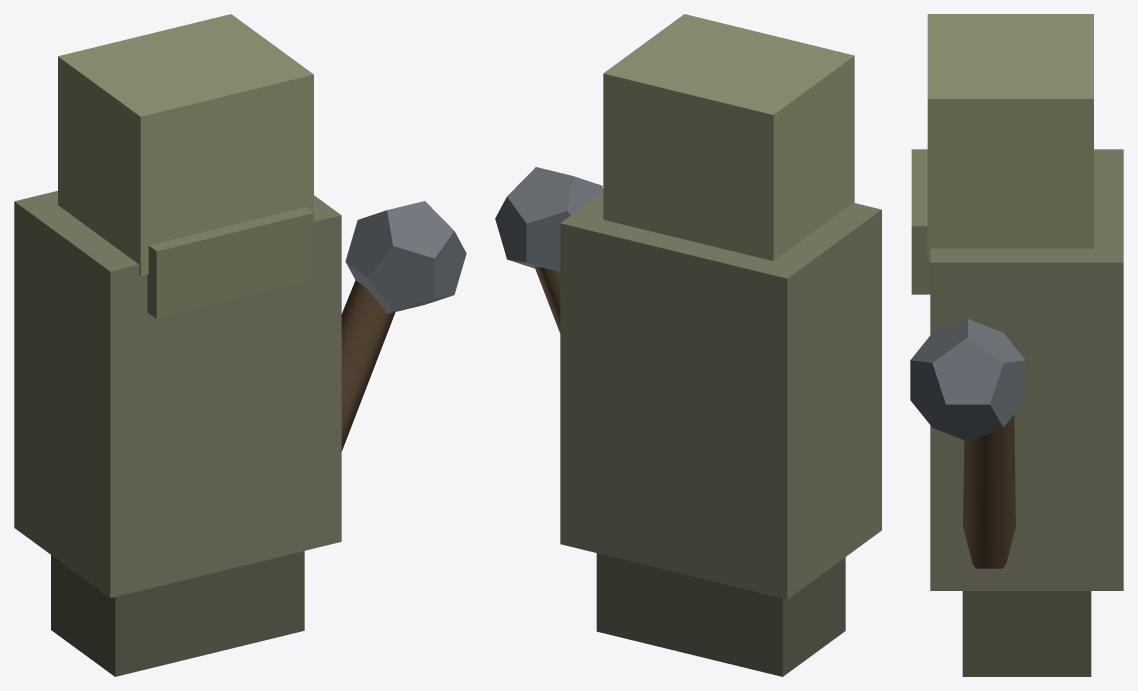
The model's file is ogre.glb.
3 views of the same model, side by side, from view 1: azimuth 30°, elevation 25°; view 2: azimuth 150°, elevation 25°; view 3: azimuth 270°, elevation 25° (orthographic). The views are drawn at different scales.
Visible parts, largest first — view 1: Torso, Weapon; view 2: Torso, Weapon; view 3: Torso, Weapon.
Part boxes in pixels (x1=…): Torso: x1=14, y1=14, x2=341, y2=676; Weapon: x1=341, y1=201, x2=466, y2=451; Torso: x1=560, y1=14, x2=881, y2=676; Weapon: x1=495, y1=167, x2=603, y2=333; Torso: x1=911, y1=14, x2=1123, y2=676; Weapon: x1=910, y1=319, x2=1025, y2=568.
Bounding box in the file's own units: 1.57 × 2.36 × 0.7949.
